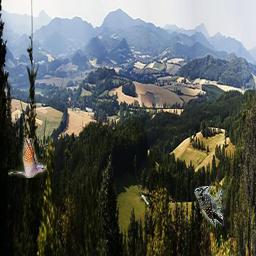Cuckoo: (8, 138, 47, 178)
Woodpecker: (194, 186, 226, 226)
